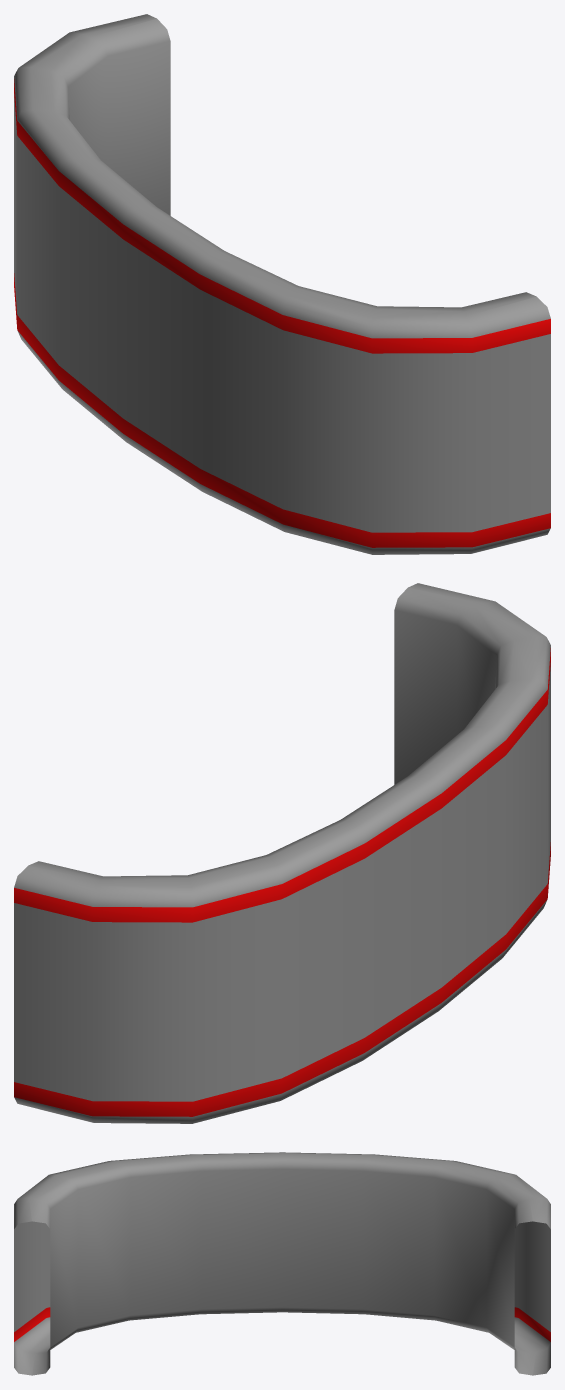
Rendered from LightWall_Model.FBX.
The picture shows the model from 3 angles, top to bottom: view 1: azimuth 30°, elevation 25°; view 2: azimuth 150°, elevation 25°; view 3: azimuth 270°, elevation 25°; orthographic projection. The views are drawn at different scales.
Visible parts, largest first — view 1: LightWall_Model; view 2: LightWall_Model; view 3: LightWall_Model.
Boxes of the visible parts, x1,y1,x2,y2 form: LightWall_Model: (14, 14, 550, 554); LightWall_Model: (14, 583, 550, 1123); LightWall_Model: (14, 1152, 550, 1375).
Size of the model in its own units: 11 by 10.96 by 34.61.
